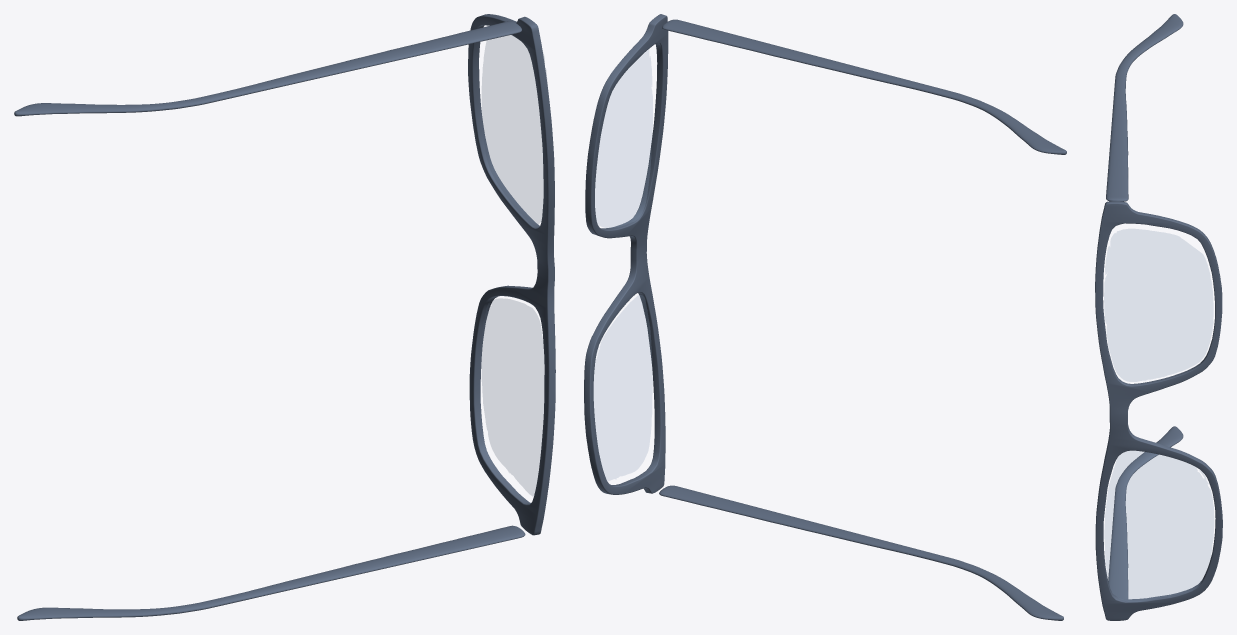
Rendered from model_0_slate_blue_grey.glb.
3 views of the same model, side by side, from view 1: azimuth 30°, elevation 25°; view 2: azimuth 150°, elevation 25°; view 3: azimuth 270°, elevation 25° (orthographic). The views are drawn at different scales.
Visible parts, largest first — view 1: o model_0, Blue_Transparent_Lens_1, Blue_Transparent_Lens_2; view 2: o model_0, Blue_Transparent_Lens_1, Blue_Transparent_Lens_2; view 3: o model_0, Blue_Transparent_Lens_2, Blue_Transparent_Lens_1.
Part boxes in pixels (x1,y1,x2,y2): o model_0: [14, 14, 555, 620]; Blue_Transparent_Lens_1: [481, 298, 544, 496]; Blue_Transparent_Lens_2: [482, 35, 546, 225]; o model_0: [584, 14, 1066, 620]; Blue_Transparent_Lens_1: [594, 295, 652, 480]; Blue_Transparent_Lens_2: [595, 49, 652, 227]; o model_0: [1095, 14, 1222, 620]; Blue_Transparent_Lens_2: [1104, 229, 1213, 381]; Blue_Transparent_Lens_1: [1104, 451, 1213, 601].
Size of the model in its own units: 12.74 by 12.44 by 3.46.
